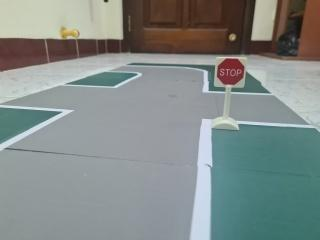stop: (214, 54, 251, 90)
